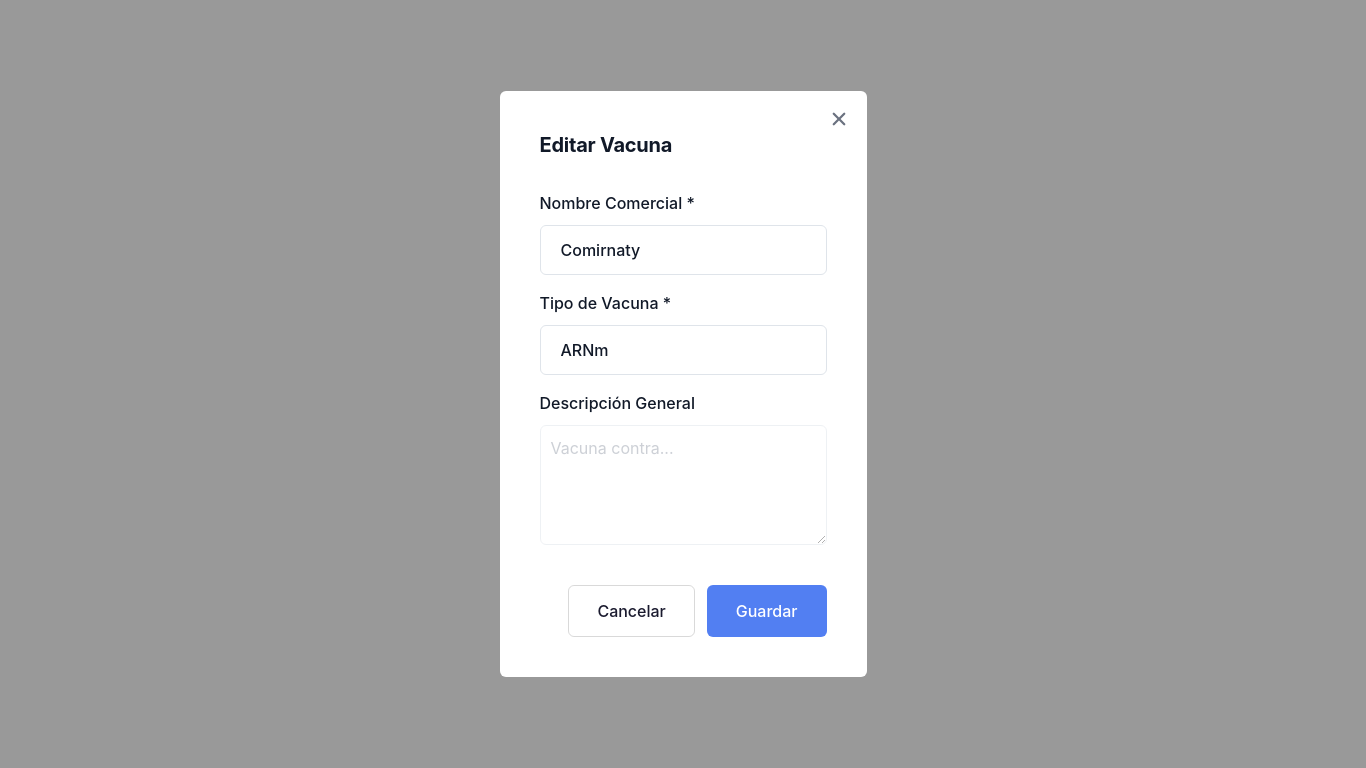
Componente: VacunaModal › debe tener el botón deshabilitado si nombre está vacío en modo edición
Borramos el nombre pre-llenado
Clear the field labelled "Nombre Comercial *" at (685, 250), box x1=560 y1=238 x2=810 y2=262
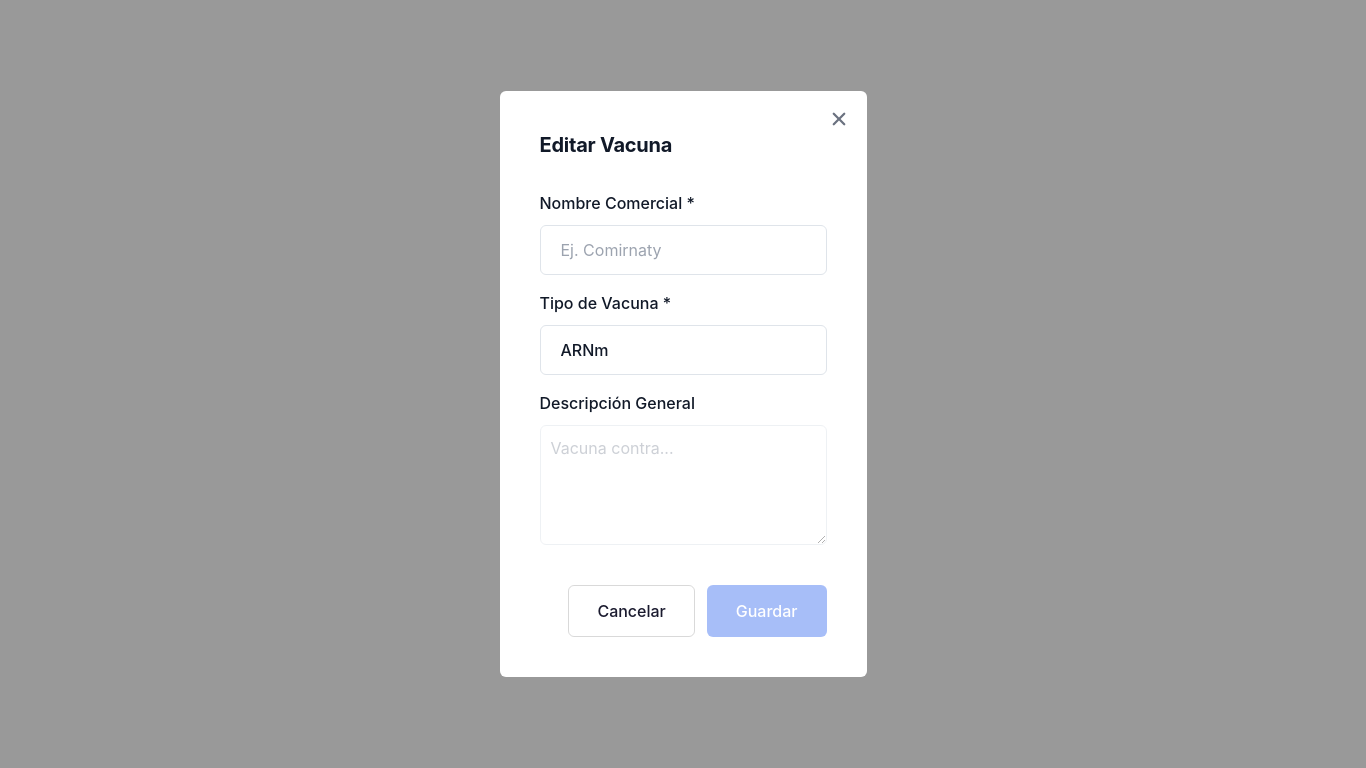
Now the button "Guardar" is disabled, box x1=707 y1=585 x2=826 y2=637
